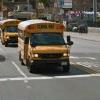Bus: (1, 14, 71, 76)
